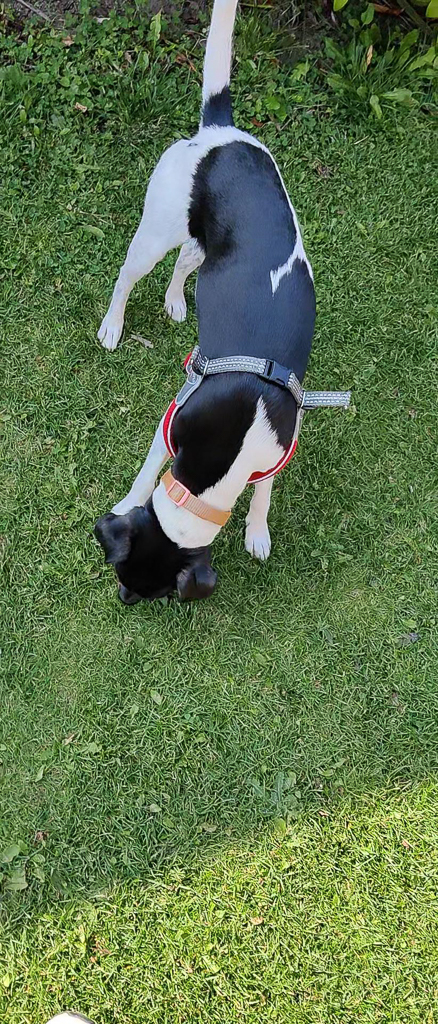Dog: (70, 0, 389, 618)
Humanoid: (19, 991, 133, 1024)
